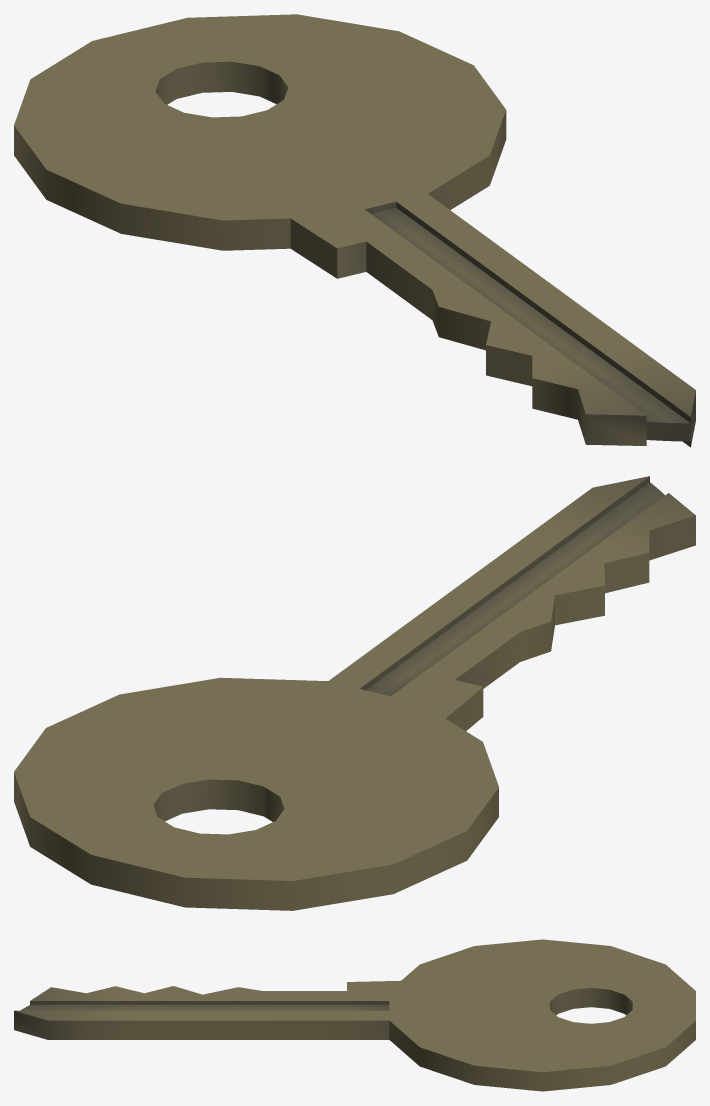
Rendered from human-household-items-key_v1.glb.
The picture shows the model from 3 angles, top to bottom: view 1: azimuth 30°, elevation 25°; view 2: azimuth 150°, elevation 25°; view 3: azimuth 270°, elevation 25°; orthographic projection. The views are drawn at different scales.
Parts seen in each view (by area): view 1: Key; view 2: Key; view 3: Key.
Boxes of the visible parts, <box> form: Key: <box>14,14,695,447</box>; Key: <box>14,476,695,910</box>; Key: <box>14,939,695,1091</box>.
Size of the model in its own units: 0.0277 by 0.00188 by 0.06.
